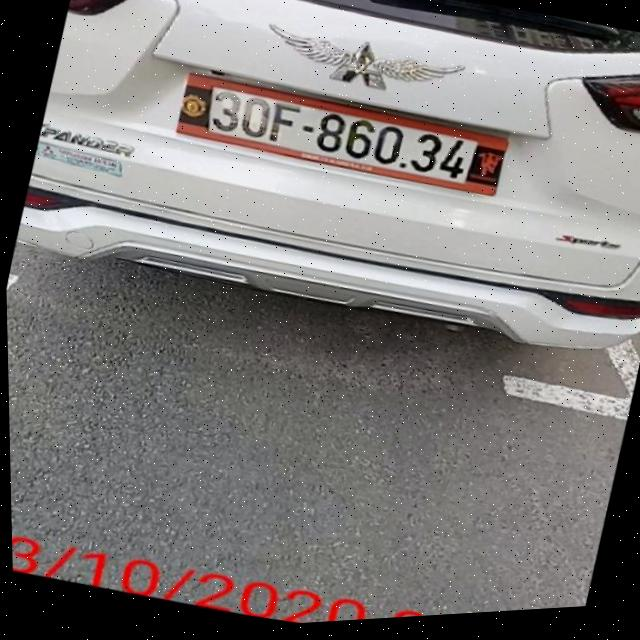car: (2, 0, 640, 407)
plate: (159, 52, 520, 220)
